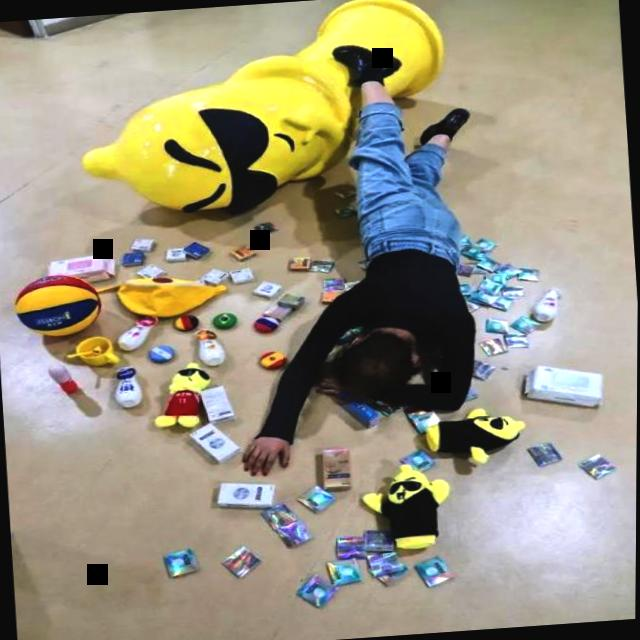Fall-Detected: (196, 20, 554, 508)
